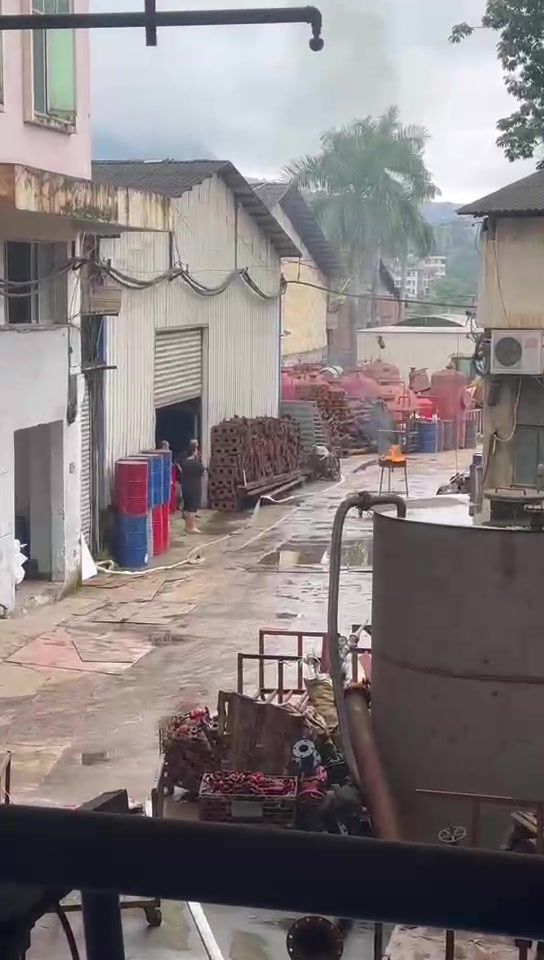fire: (384, 444, 404, 461)
